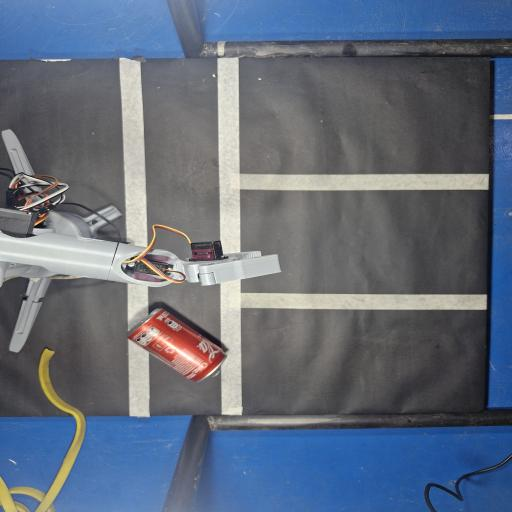lata: (128, 308, 226, 382)
